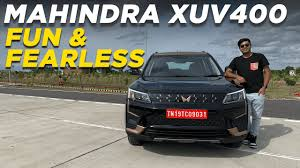XUV 400: (124, 49, 247, 151)
